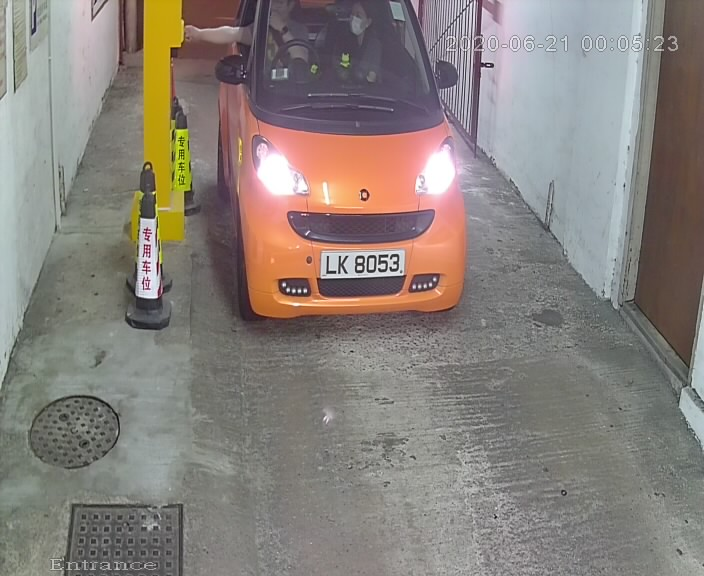privatecar: (194, 1, 493, 344)
